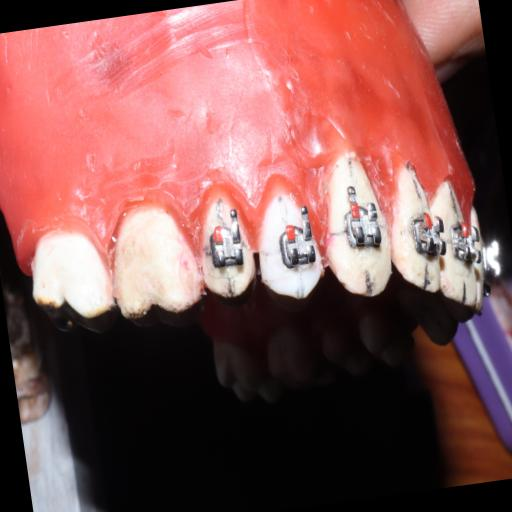correct_brace: (248, 176, 326, 304)
